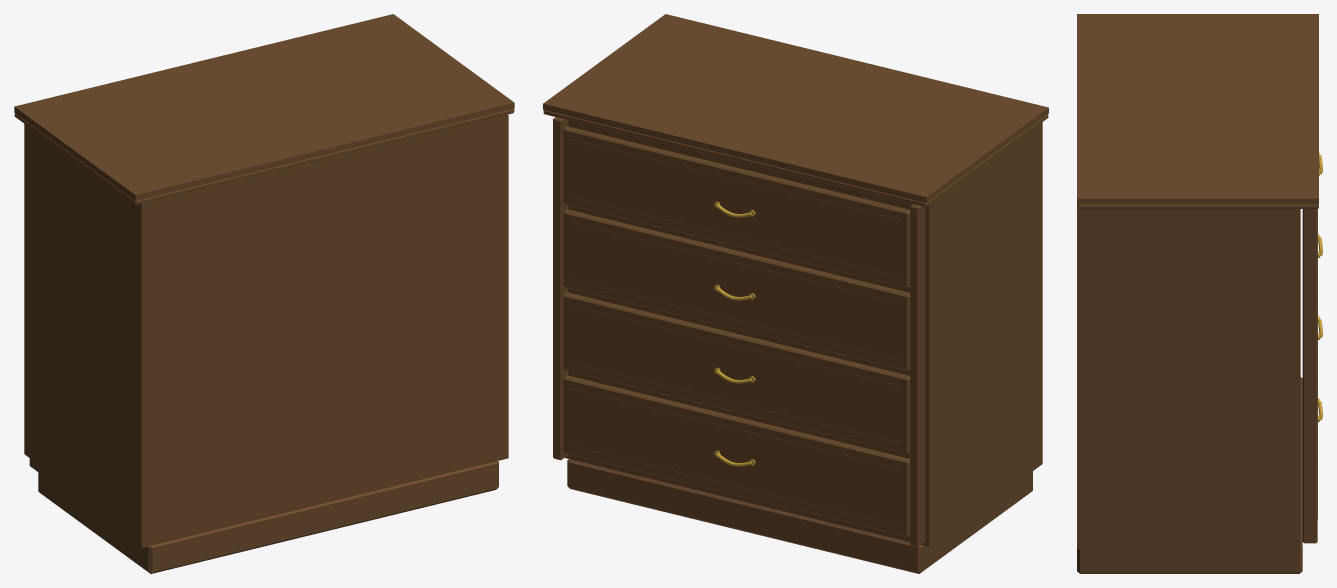
Rendered from parametric-chest-1st-pub.glb.
3 renders of one model, left to right at view 1: azimuth 30°, elevation 25°; view 2: azimuth 150°, elevation 25°; view 3: azimuth 270°, elevation 25°, orthographic.
Visible parts, largest first — view 1: parametric-chest-1st-pub; view 2: parametric-chest-1st-pub; view 3: parametric-chest-1st-pub.
Part boxes in pixels (x1=…): parametric-chest-1st-pub: x1=14, y1=14, x2=514, y2=573; parametric-chest-1st-pub: x1=543, y1=14, x2=1048, y2=573; parametric-chest-1st-pub: x1=1077, y1=14, x2=1322, y2=573.
Bounding box in the file's own units: 0.93 × 0.9 × 0.5233.
